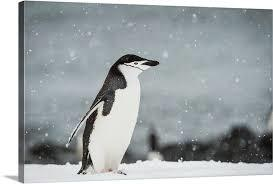chinstrap: (54, 43, 166, 178)
